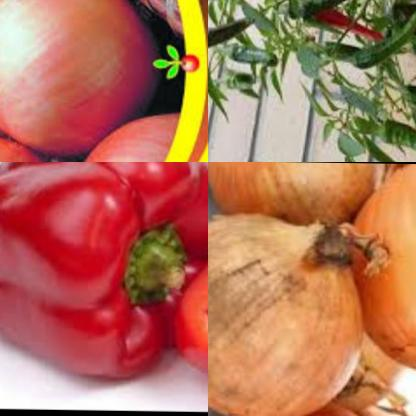bell pepper: (0, 162, 208, 381)
hot pepper: (336, 0, 416, 83), (308, 0, 390, 47), (349, 107, 416, 162), (208, 9, 256, 66)
onion: (208, 204, 386, 416), (0, 0, 157, 145), (346, 162, 416, 388), (208, 162, 390, 233), (75, 99, 197, 162), (0, 120, 77, 162)
